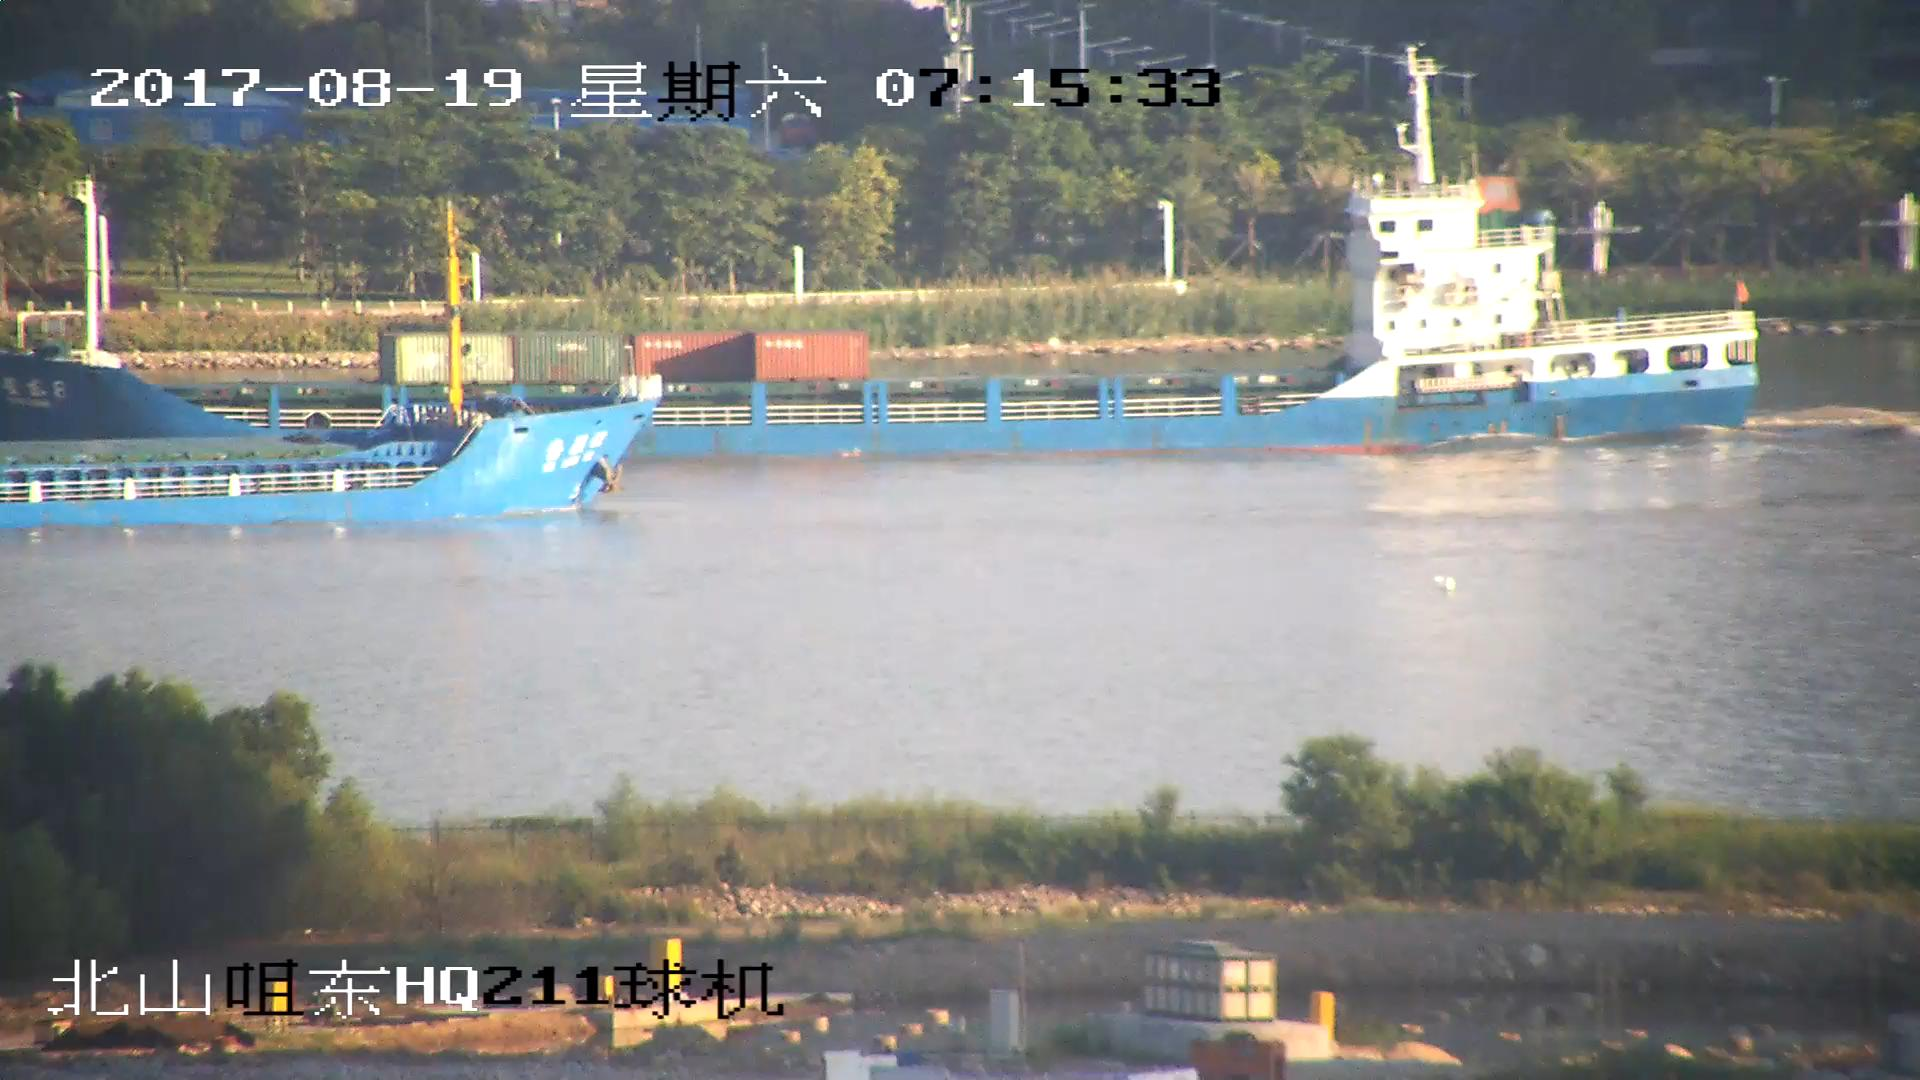general cargo ship: (1, 123, 1752, 464), (1, 199, 664, 523)
